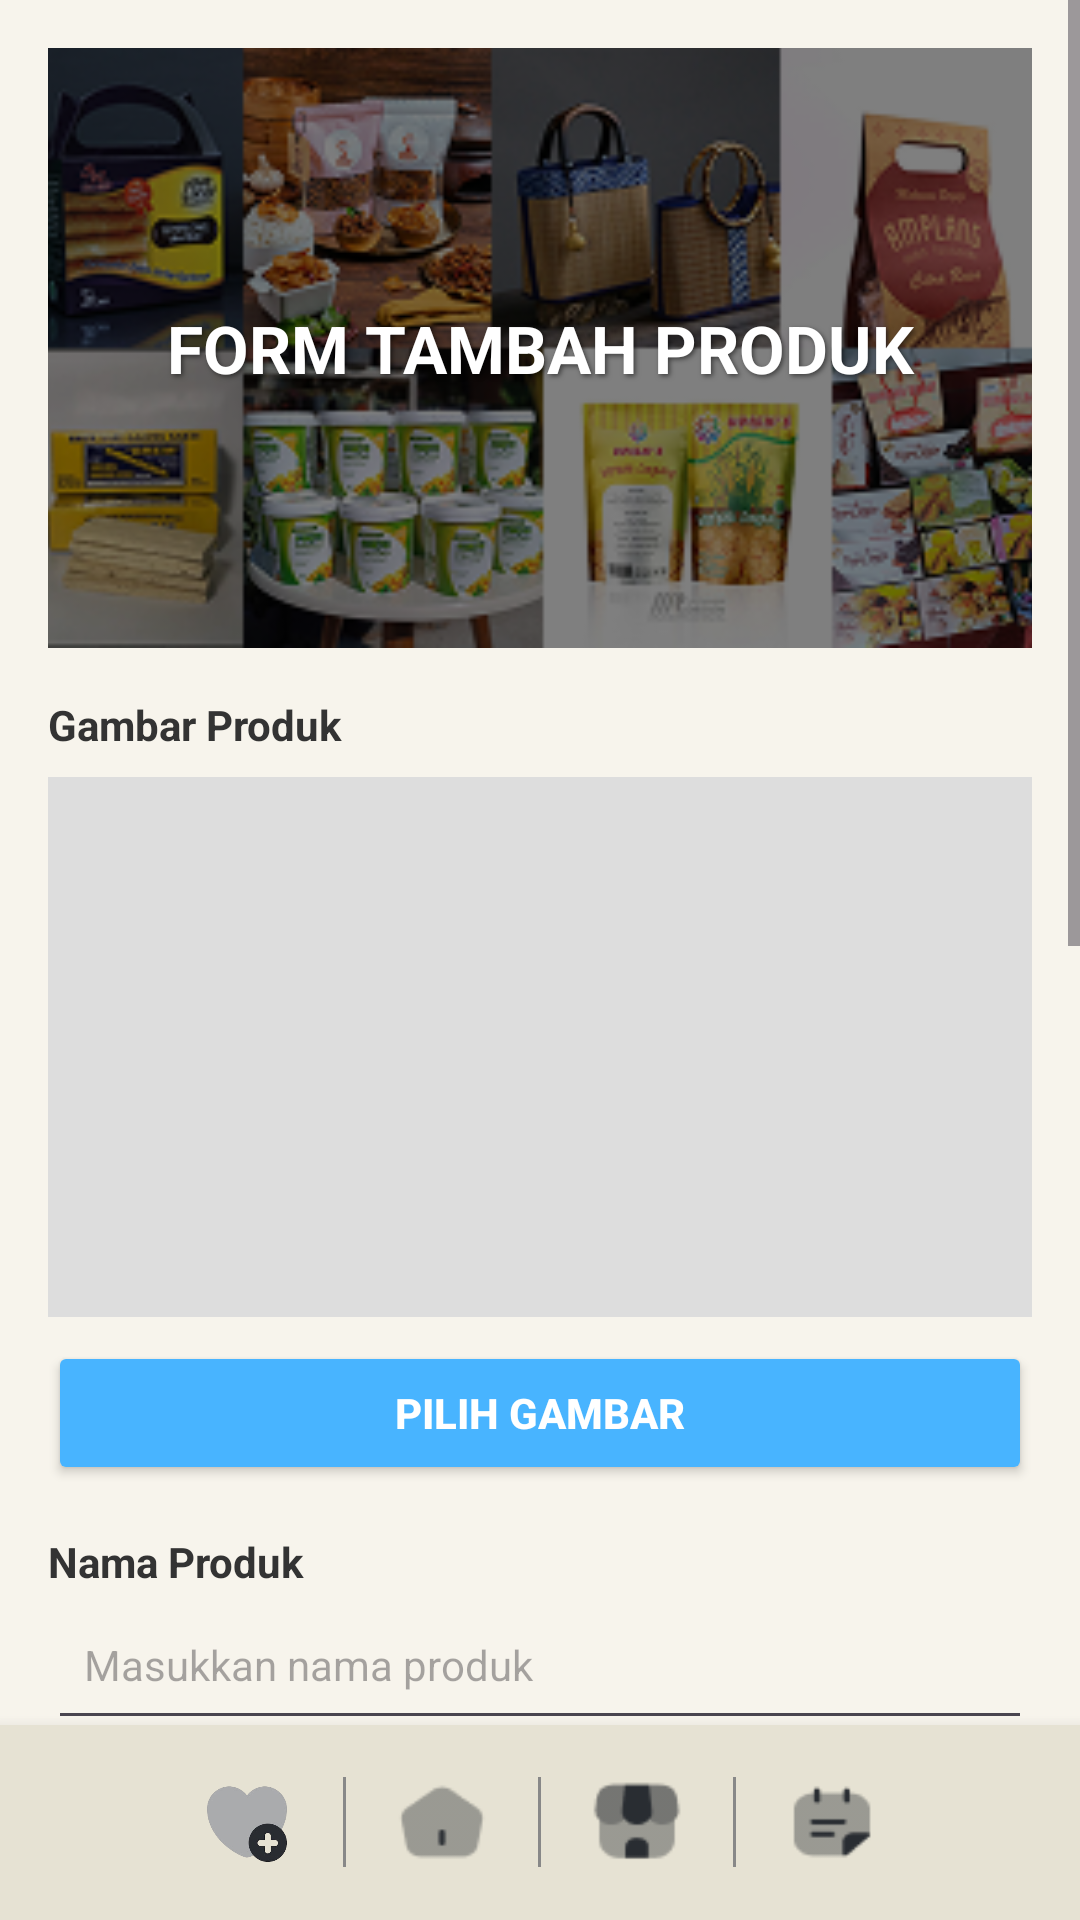

Icon bounding boxes for this 1080×1920 phone screenshot, format (x1, y1, x2, y2):
home: (401, 1787, 483, 1857)
shop: (594, 1783, 680, 1859)
